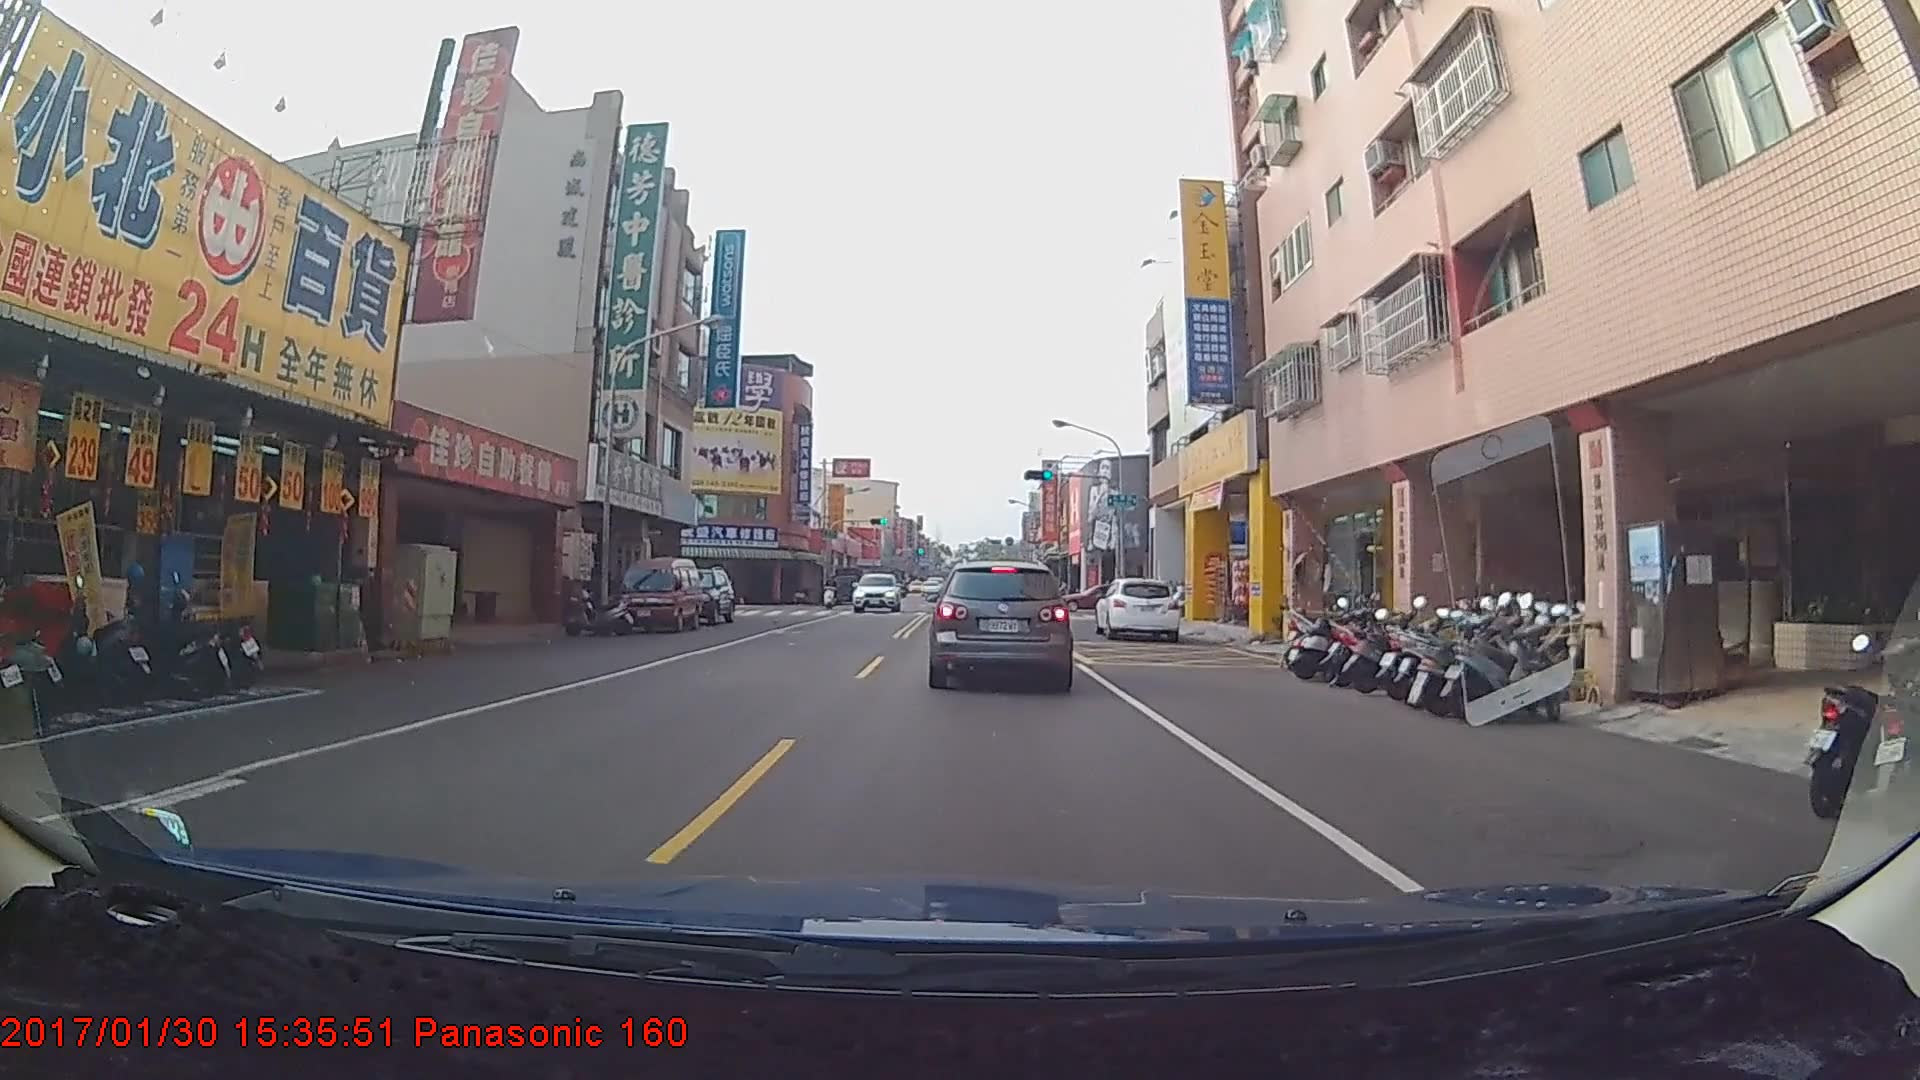vehicle: (930, 558, 1073, 688), (613, 564, 702, 638), (1095, 575, 1182, 644), (666, 564, 737, 626), (851, 576, 890, 611)
